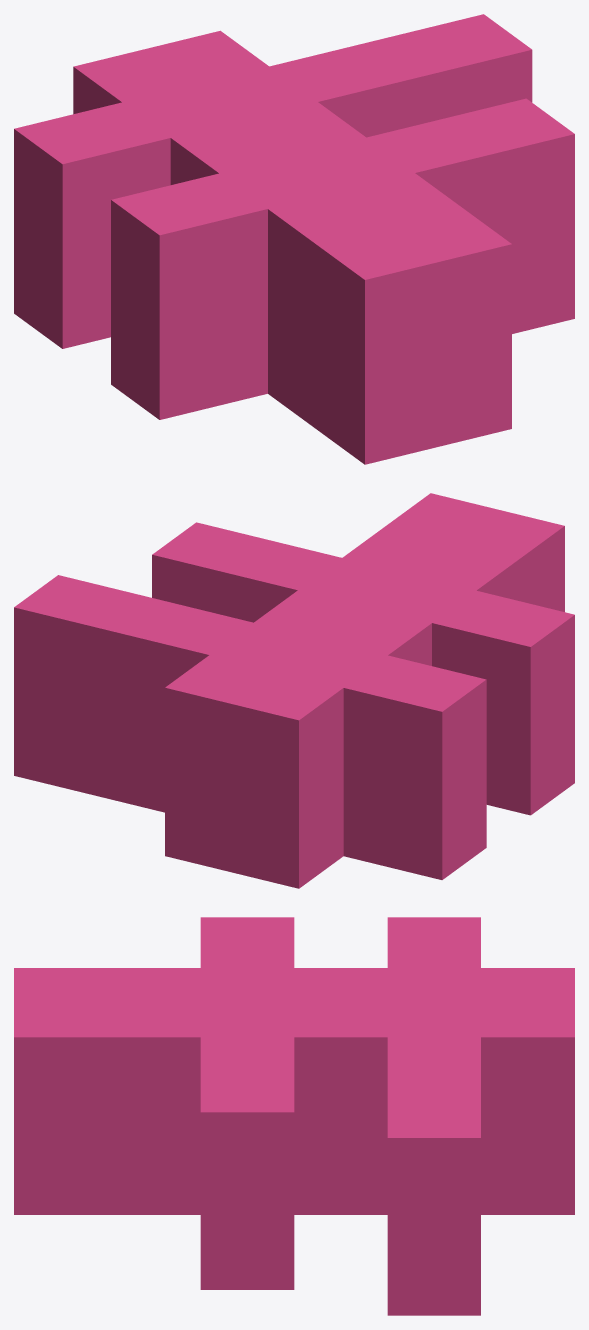
File: onicogrifosis.gltf
3 views of the same model, one above another, from view 1: azimuth 30°, elevation 25°; view 2: azimuth 150°, elevation 25°; view 3: azimuth 270°, elevation 25° (orthographic). The views are drawn at different scales.
Visible parts, largest first — view 1: Cube; view 2: Cube; view 3: Cube.
Part boxes in pixels (<box>): Cube: <box>14,14,574,464</box>; Cube: <box>14,493,574,888</box>; Cube: <box>14,917,574,1315</box>.
Bounding box in the file's own units: 1.6 × 0.6 × 1.72.
